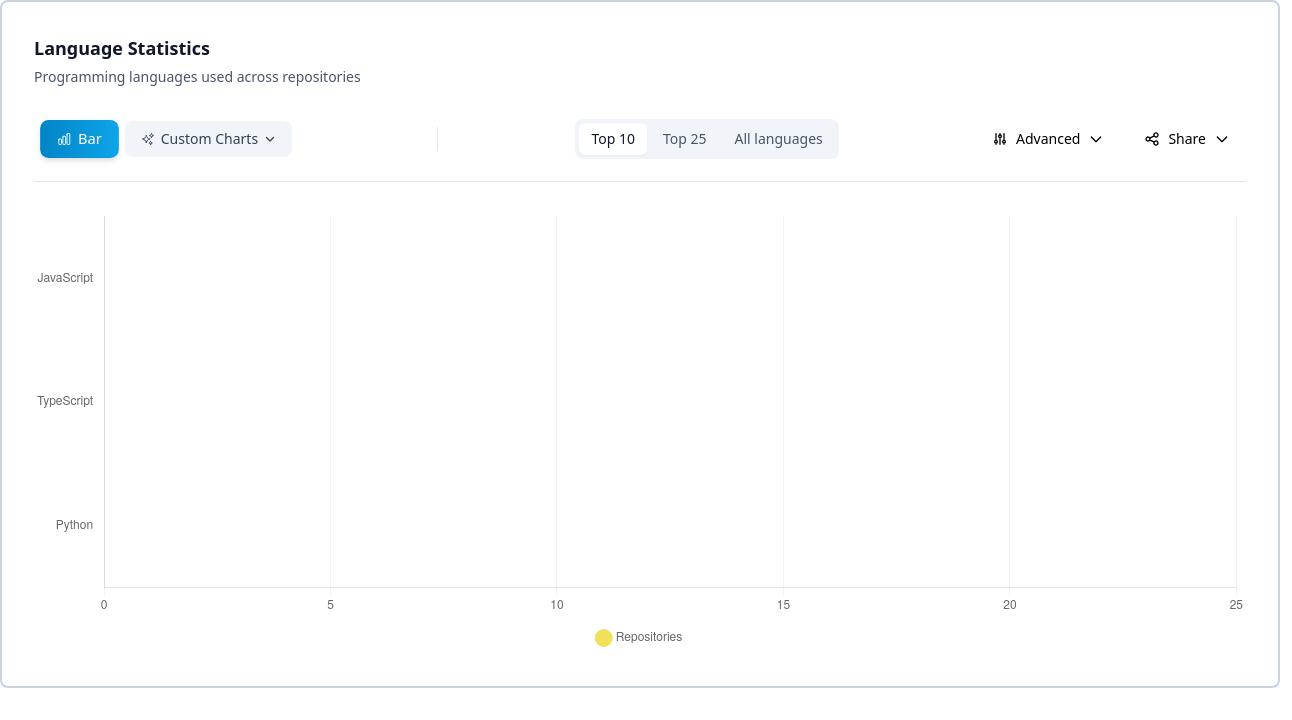
Scenario: ChartPanel › Share dropdown › opens dropdown when Share button is clicked
Click the button "Share" at (1187, 139), box top-left (1128, 121), bottom-right (1246, 157)
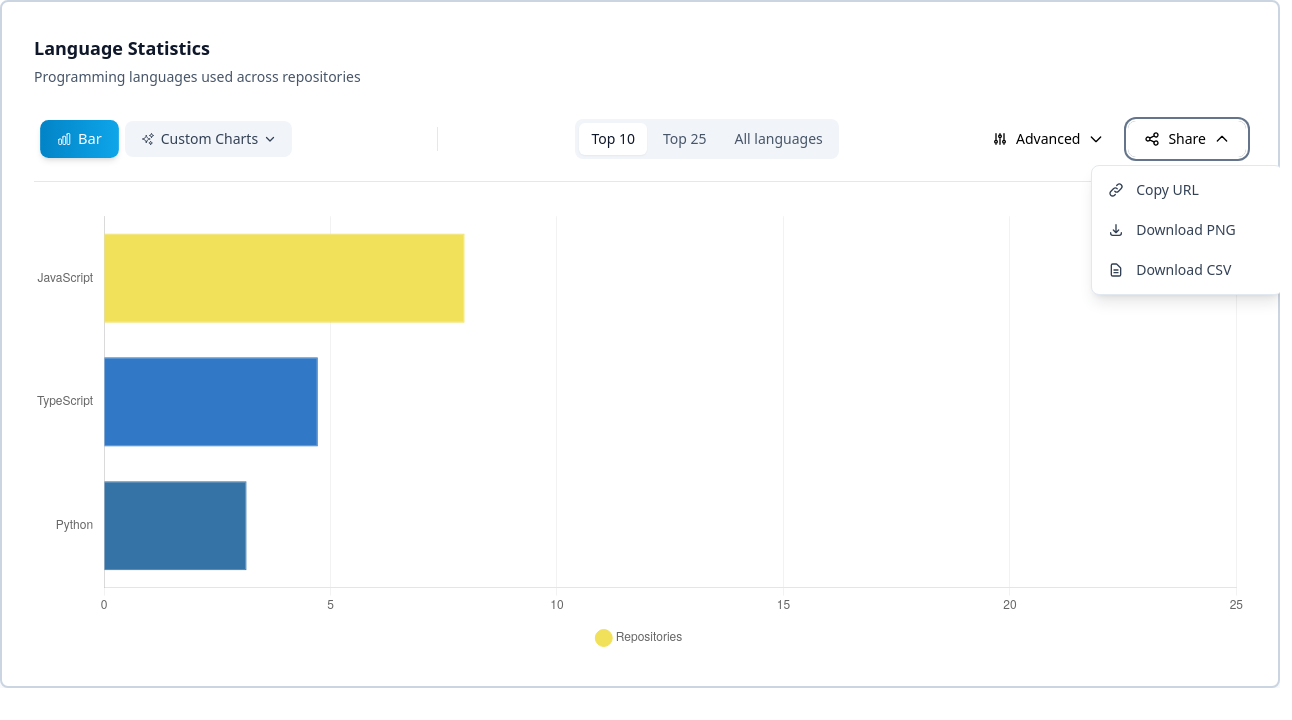
Check: the text "Copy URL" is shown, box top-left (1136, 180), bottom-right (1199, 199)
Check: the text "Download PNG" is shown, box top-left (1136, 220), bottom-right (1236, 239)
Check: the text "Download CSV" is shown, box top-left (1136, 260), bottom-right (1231, 279)
